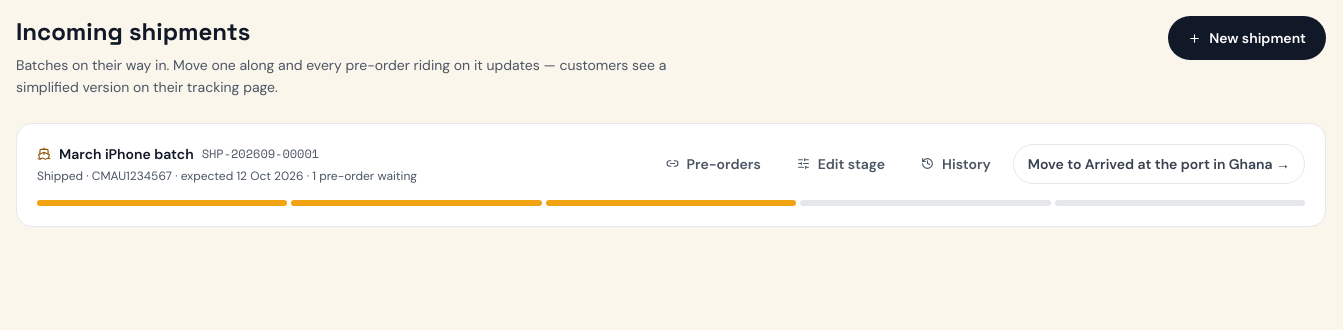
Test: Shipments — the batch's own history › says so when a batch has not moved yet
Click the button "History".
click(956, 164)  # box [907,145,1005,183]
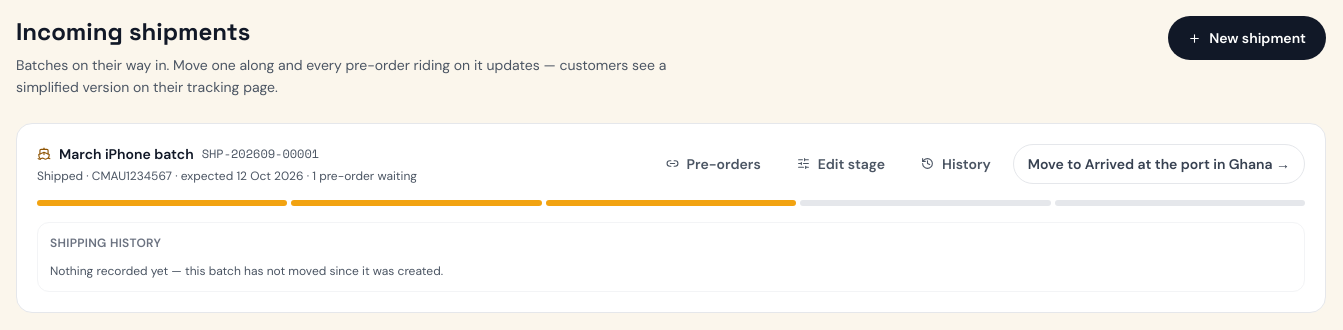
Expected: the text "has not moved since it was created" is shown, [50,263,443,279]
